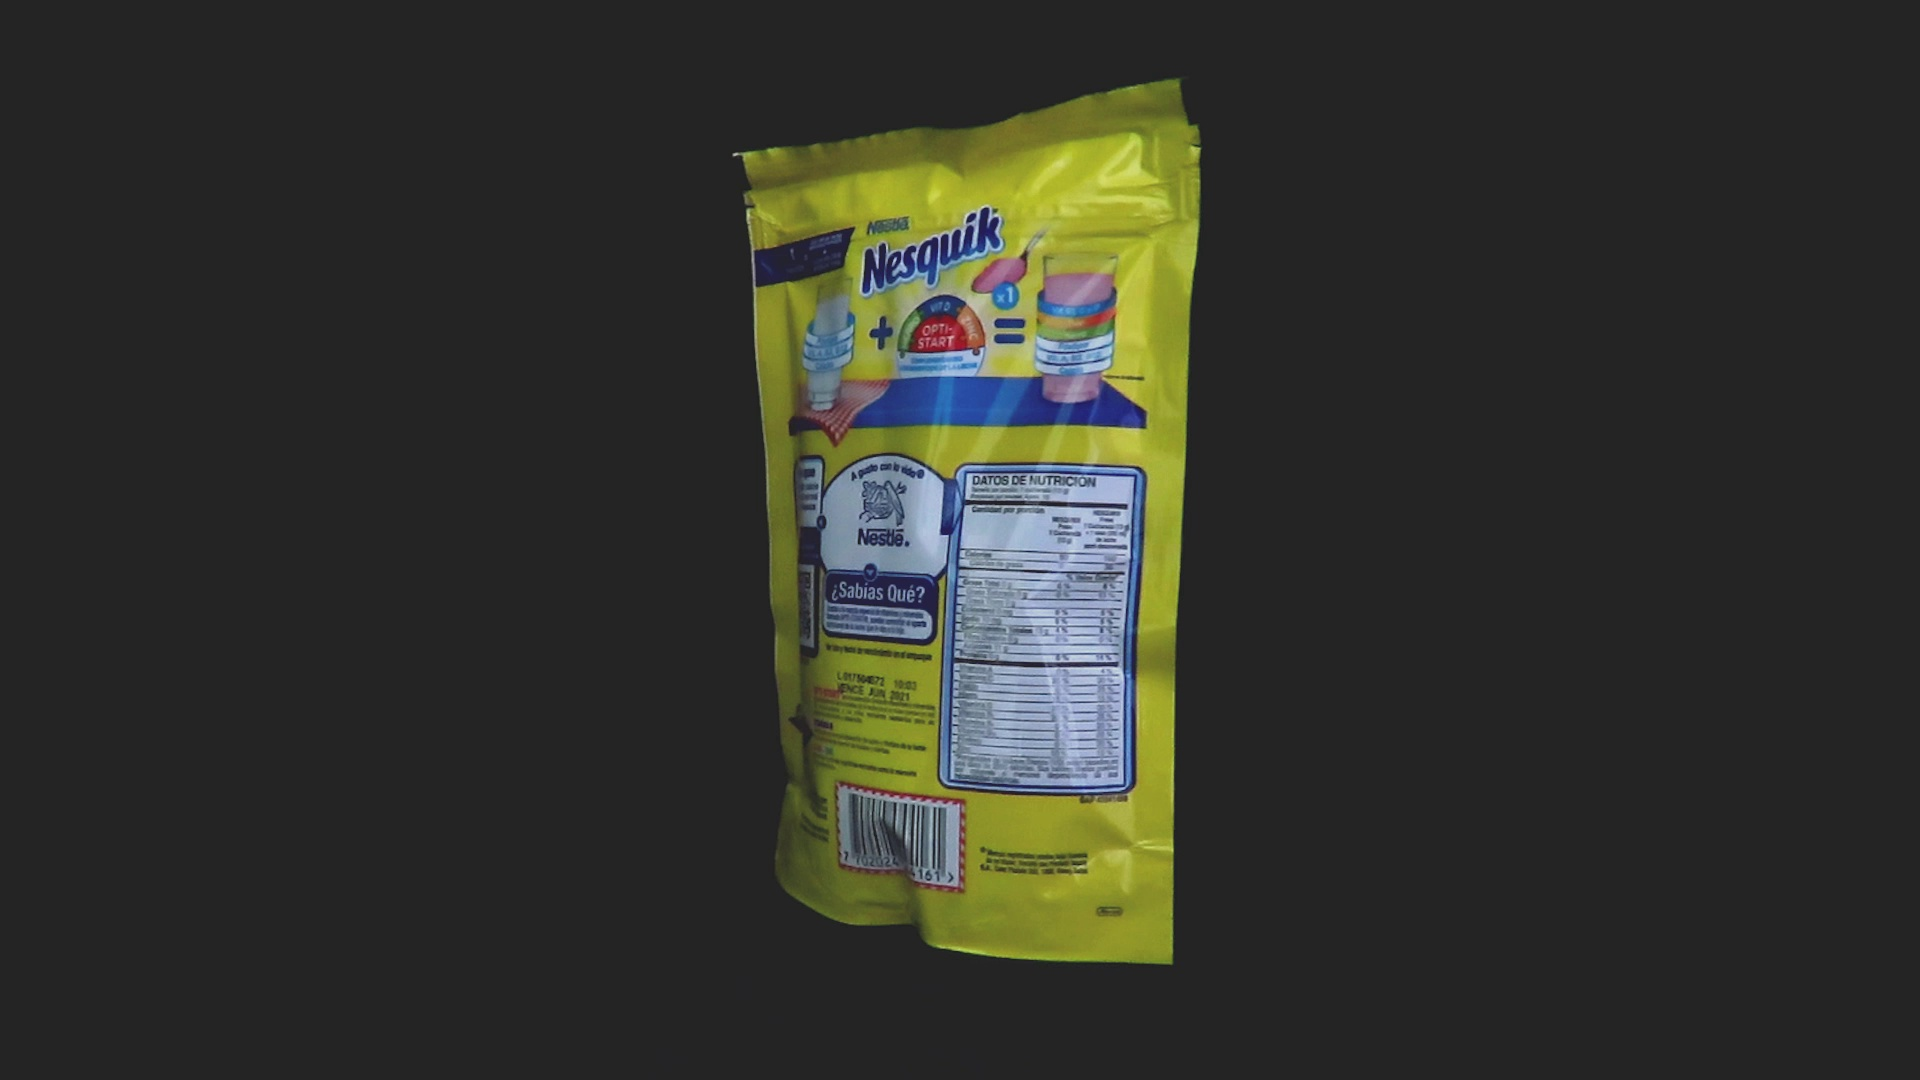COL0170305DYP20000: (728, 73, 1207, 971)
